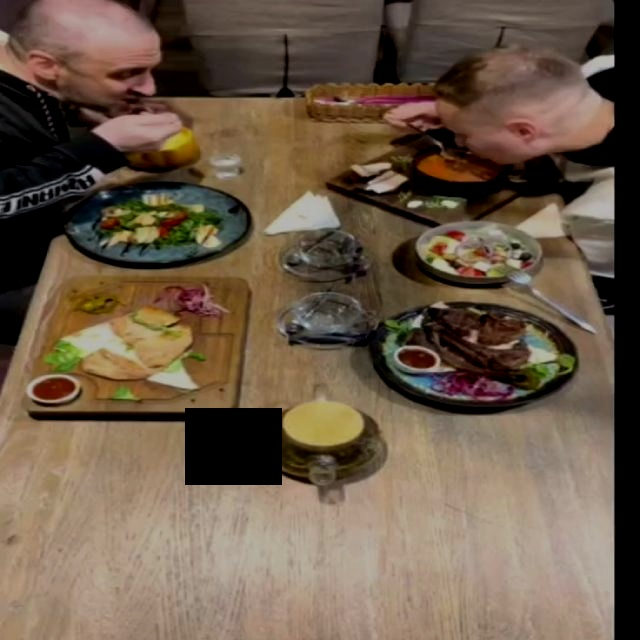meat: (19, 275, 252, 415), (366, 300, 579, 408)
salad: (60, 182, 247, 265), (414, 220, 544, 285)
soup: (323, 136, 550, 225), (106, 105, 225, 175)
tea: (254, 380, 395, 509)
